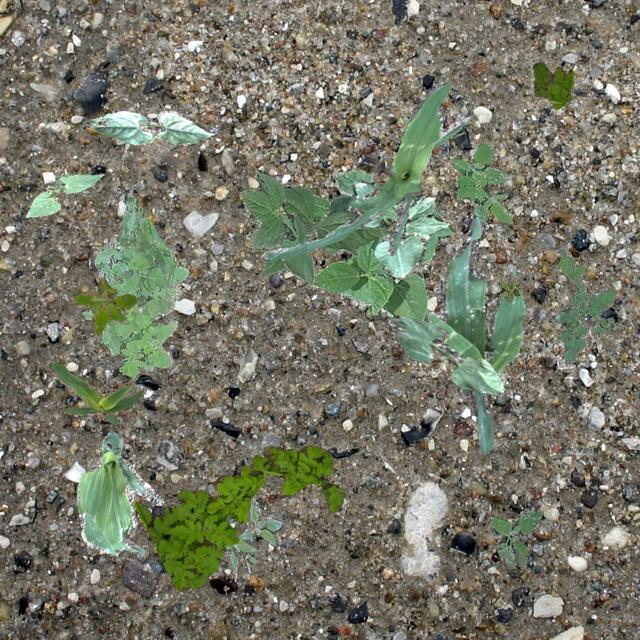crop: (262, 80, 472, 258), (426, 214, 524, 452), (310, 168, 452, 320), (260, 184, 386, 274), (76, 430, 162, 556), (350, 178, 450, 278), (387, 314, 502, 396), (238, 168, 314, 284), (50, 362, 146, 424), (86, 110, 212, 144), (26, 172, 104, 216)
weed: (132, 444, 342, 590), (81, 195, 188, 378), (554, 246, 616, 362), (451, 140, 511, 222), (222, 501, 282, 576), (70, 276, 136, 334), (486, 508, 542, 568), (532, 61, 572, 108), (498, 274, 520, 300)
